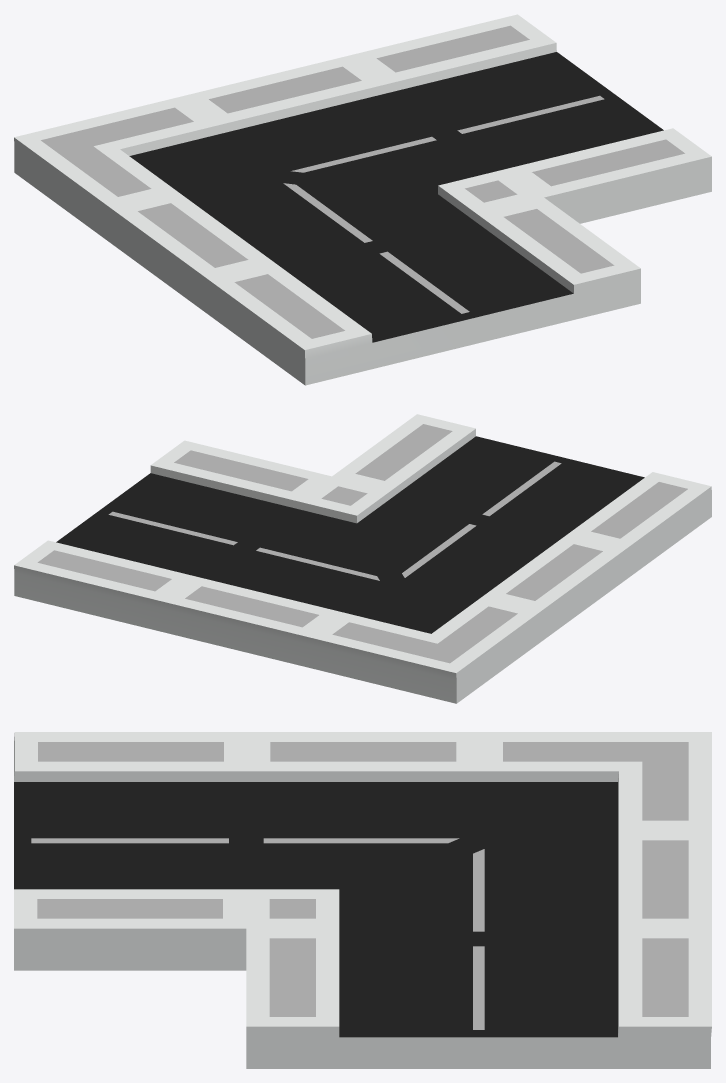
Rendered from duong cua vuong.fbx.
The picture shows the model from 3 angles, top to bottom: view 1: azimuth 30°, elevation 25°; view 2: azimuth 150°, elevation 25°; view 3: azimuth 270°, elevation 25°; orthographic projection. The views are drawn at different scales.
Parts seen in each view (by area): view 1: duong_cua_vuong; view 2: duong_cua_vuong; view 3: duong_cua_vuong.
Part boxes in pixels (box(x1,y1,x2,y2)): duong_cua_vuong: box(14, 14, 711, 385); duong_cua_vuong: box(14, 414, 711, 703); duong_cua_vuong: box(14, 732, 711, 1068).
Bounding box in the file's own units: 30 × 2 × 30.04.
Materials: 1 (1 with a texture image).
